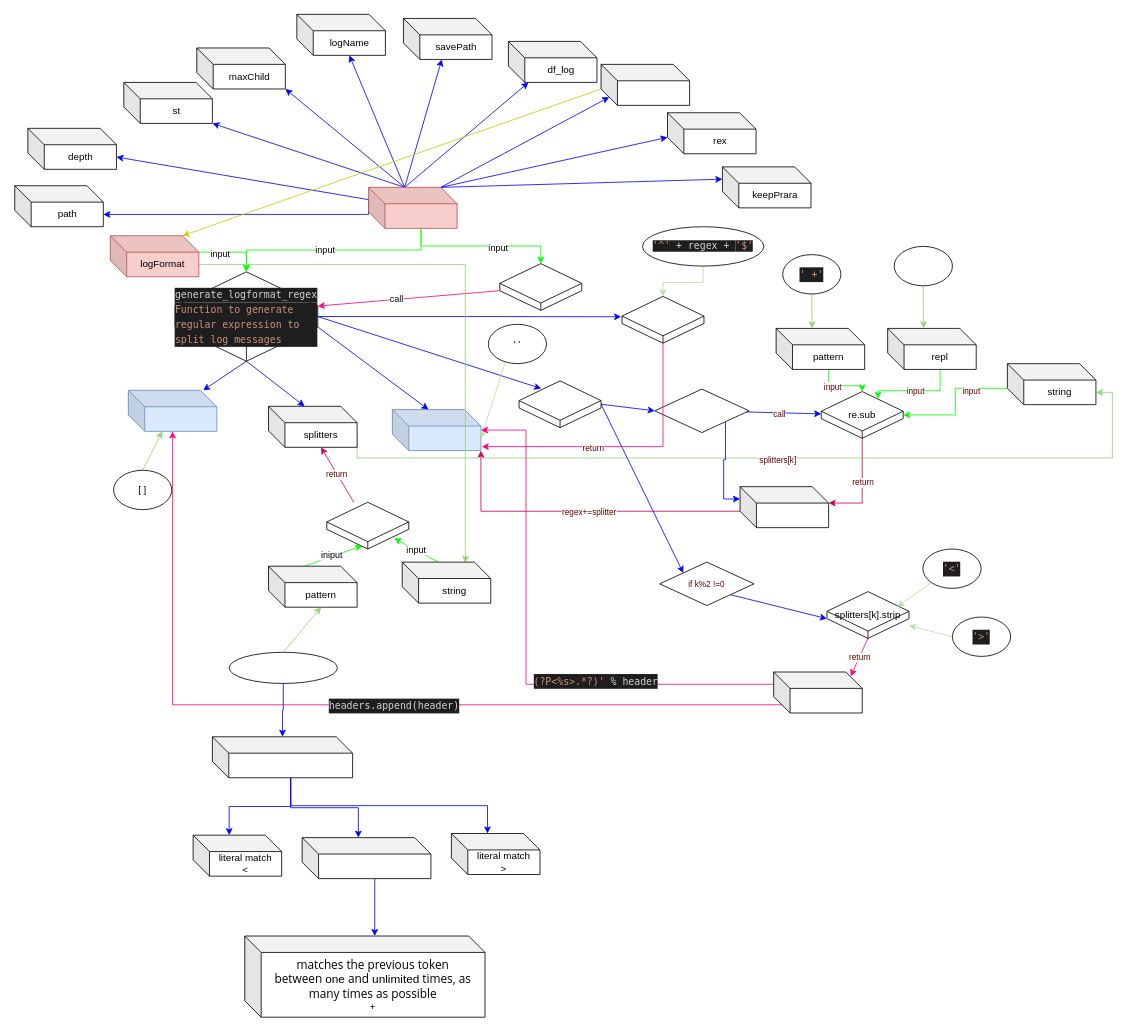
The diagram is 1133 pixels wide and 1032 high, and some of its shapes have lost their labels. Each missing label, with the centre of its shape:
"'\\\s+'" belongs at pixel 922 266.
"first capturing group ()" belongs at pixel 282 757.
"for-loop@glr for k in (len(splitters))" belongs at pixel 559 404.
"header" belongs at pixel 817 692.
"headers @return" belongs at pixel 172 410.
"if k%2 ==0" belongs at pixel 701 410.
"LoadData" belongs at pixel 540 286.
"log_format" belongs at pixel 645 84.
"not match < or > [^<> ]" belongs at pixel 366 858.
"r '(<[ ^ <>] + >)'" belongs at pixel 282 667.
"re.compile" belongs at pixel 662 319.
"re.split Split the string by each occurrence of the pattern" belongs at pixel 367 525.
"regex @return" belongs at pixel 436 430.
"self@LogParser" belongs at pixel 412 207.
"splitter" belongs at pixel 784 507.
